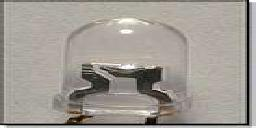LED: (51, 15, 194, 128)
